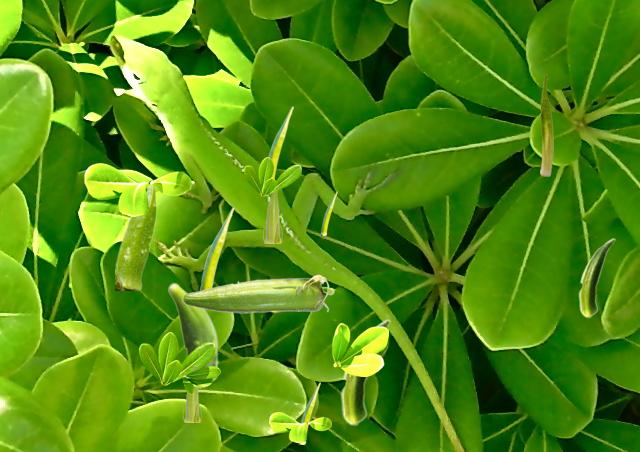okra: (182, 274, 333, 312), (167, 282, 218, 388), (340, 319, 389, 425), (115, 185, 156, 289), (578, 238, 614, 317), (200, 207, 233, 289), (268, 106, 292, 178), (298, 382, 319, 443), (540, 74, 552, 175), (182, 365, 200, 421), (262, 191, 281, 242), (321, 191, 336, 234)
